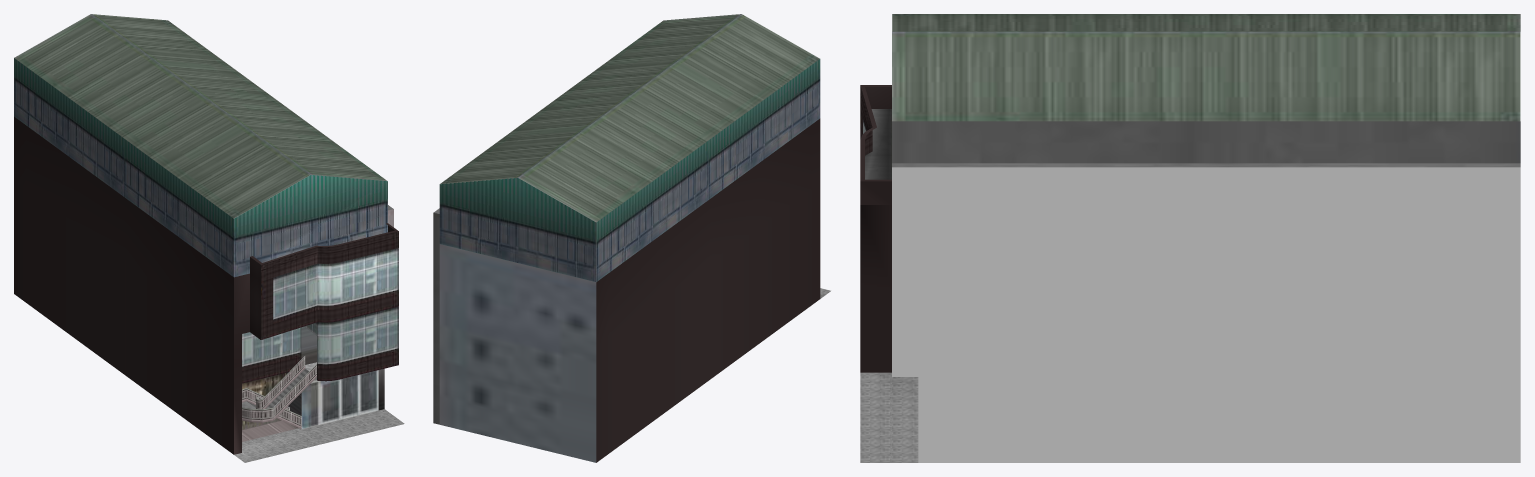
3 views of the same model, side by side, from view 1: azimuth 30°, elevation 25°; view 2: azimuth 150°, elevation 25°; view 3: azimuth 270°, elevation 25° (orthographic). The views are drawn at different scales.
Parts seen in each view (by area): view 1: 5d51216cd0d5581a50c68466.001; view 2: 5d51216cd0d5581a50c68466.001; view 3: 5d51216cd0d5581a50c68466.001.
Boxes of the visible parts, x1,y1,x2,y2 form: 5d51216cd0d5581a50c68466.001: (14, 14, 404, 462); 5d51216cd0d5581a50c68466.001: (433, 14, 830, 462); 5d51216cd0d5581a50c68466.001: (860, 14, 1520, 462).
Size of the model in its own units: 10 by 15.6 by 25.
1 material, 1 textured.
